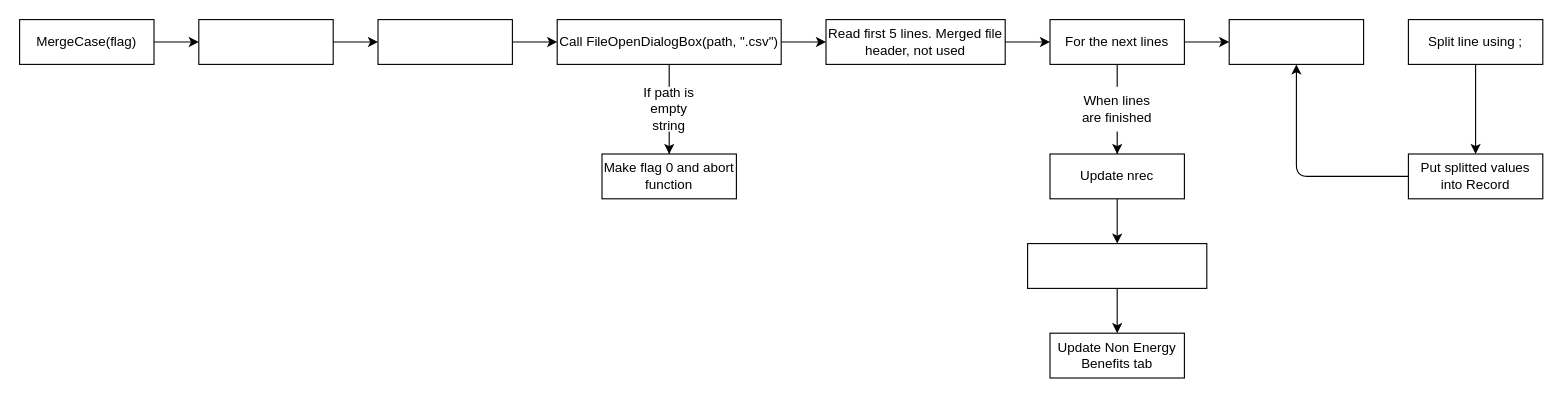
Image size: 1562x398. Some labels were removed from this diagram. The centre of each missing label's shape, as x and y in pixels:
"Assign Record into a temporary variable" goes at (265,41).
"Get next line" goes at (1296,41).
"Make flag 1" goes at (444,41).
"Update values at the bottom part of Frame1" goes at (1116,265).
